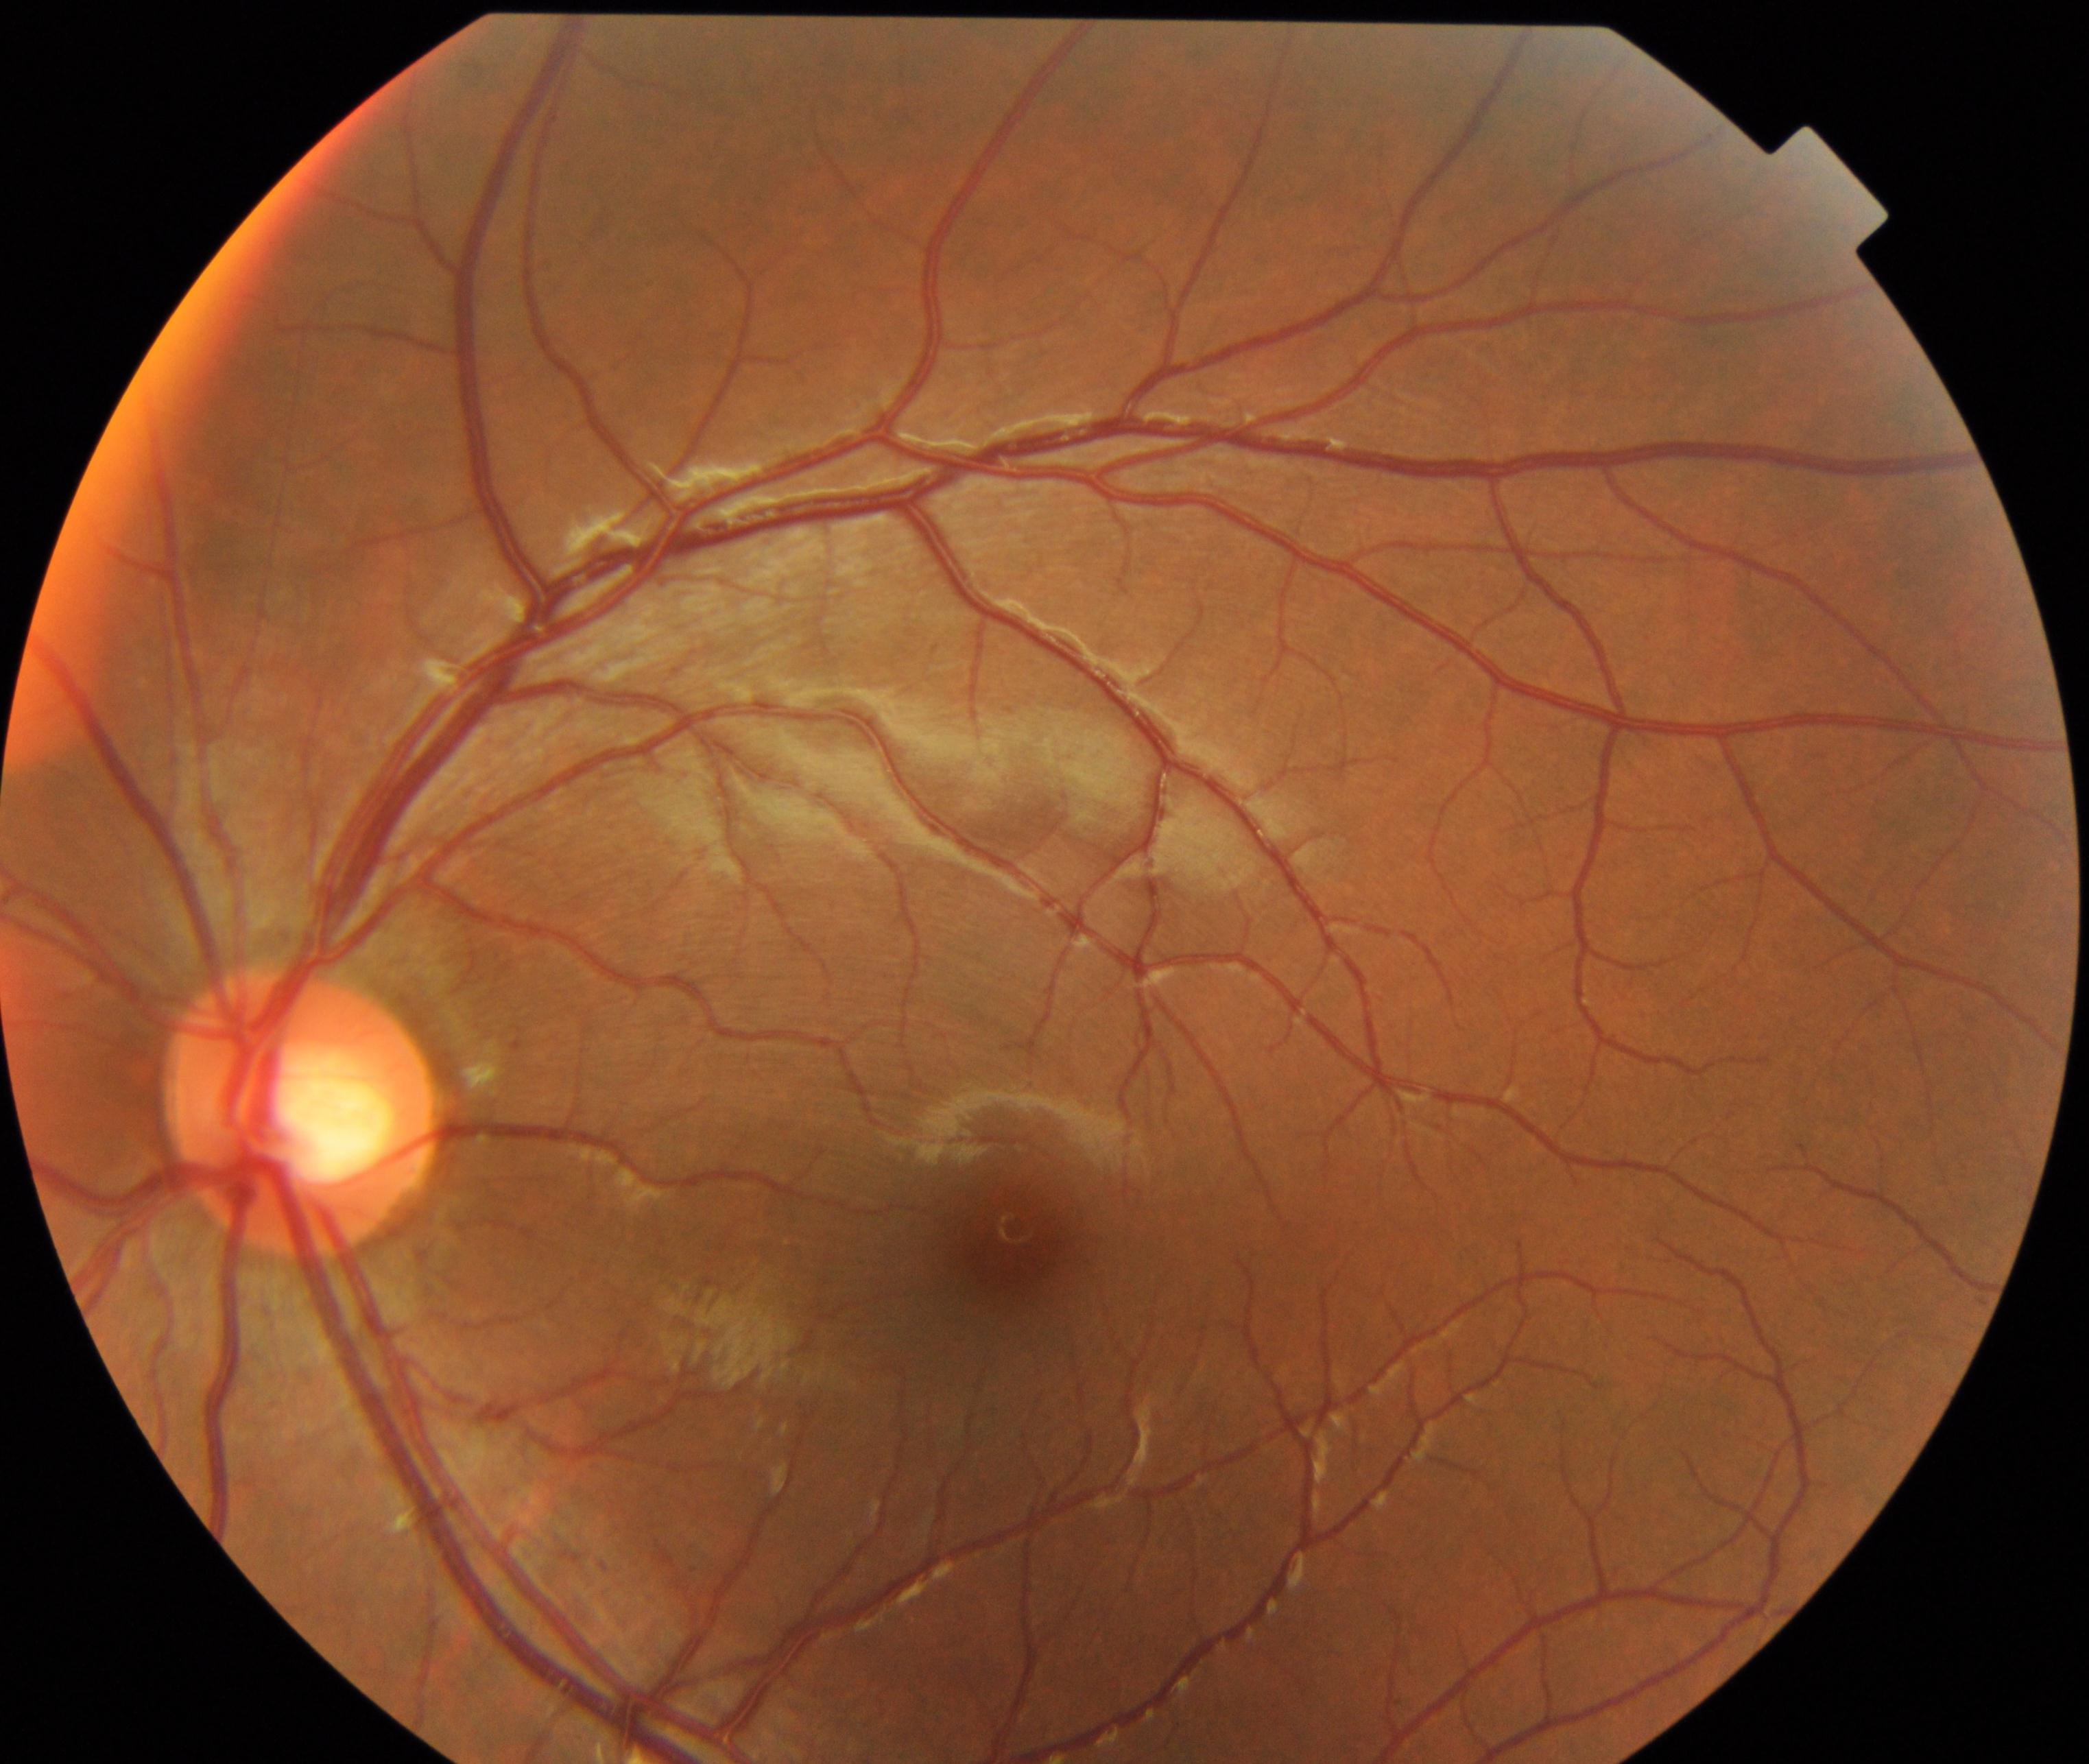Glaucoma section-1: (261, 1057, 387, 1186)
Glaucoma section-2: (154, 966, 441, 1260)
